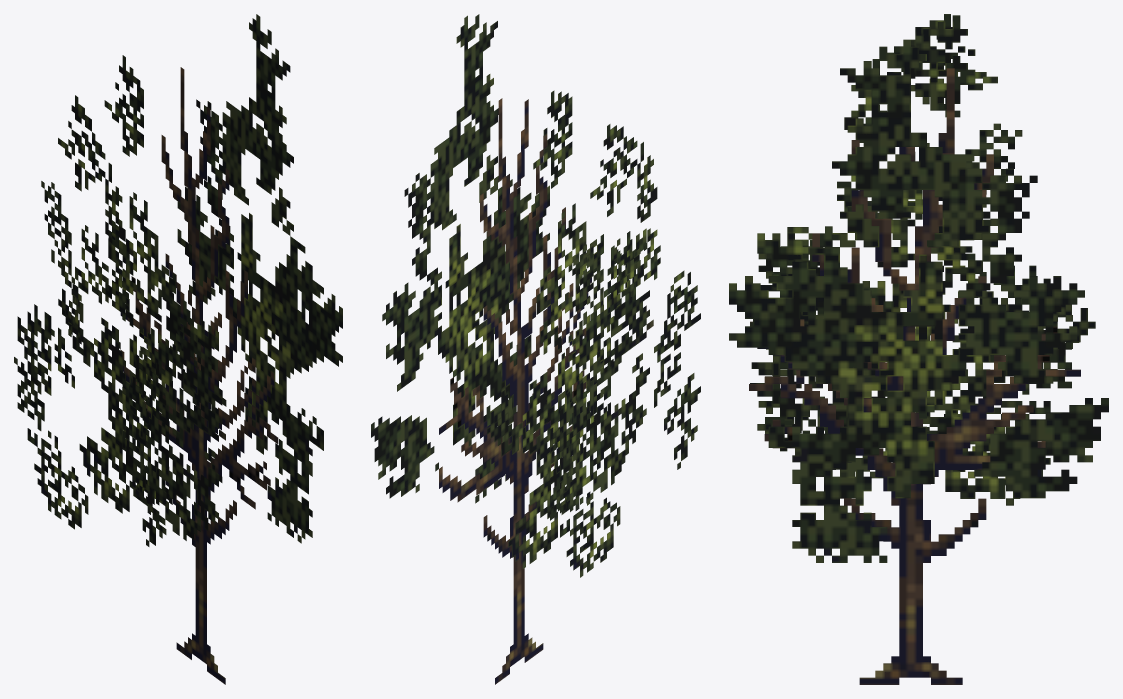
Rendered from ObjMD_Tree_Sea_A.FBX.
3 views of the same model, side by side, from view 1: azimuth 30°, elevation 25°; view 2: azimuth 150°, elevation 25°; view 3: azimuth 270°, elevation 25° (orthographic). The views are drawn at different scales.
Visible parts, largest first — view 1: ObjMD_Tree_Sea_A; view 2: ObjMD_Tree_Sea_A; view 3: ObjMD_Tree_Sea_A.
Part boxes in pixels (<box>): ObjMD_Tree_Sea_A: <box>14,14,342,684</box>; ObjMD_Tree_Sea_A: <box>371,14,700,684</box>; ObjMD_Tree_Sea_A: <box>729,14,1108,684</box>.
Size of the model in its own units: 156 by 588 by 300.
